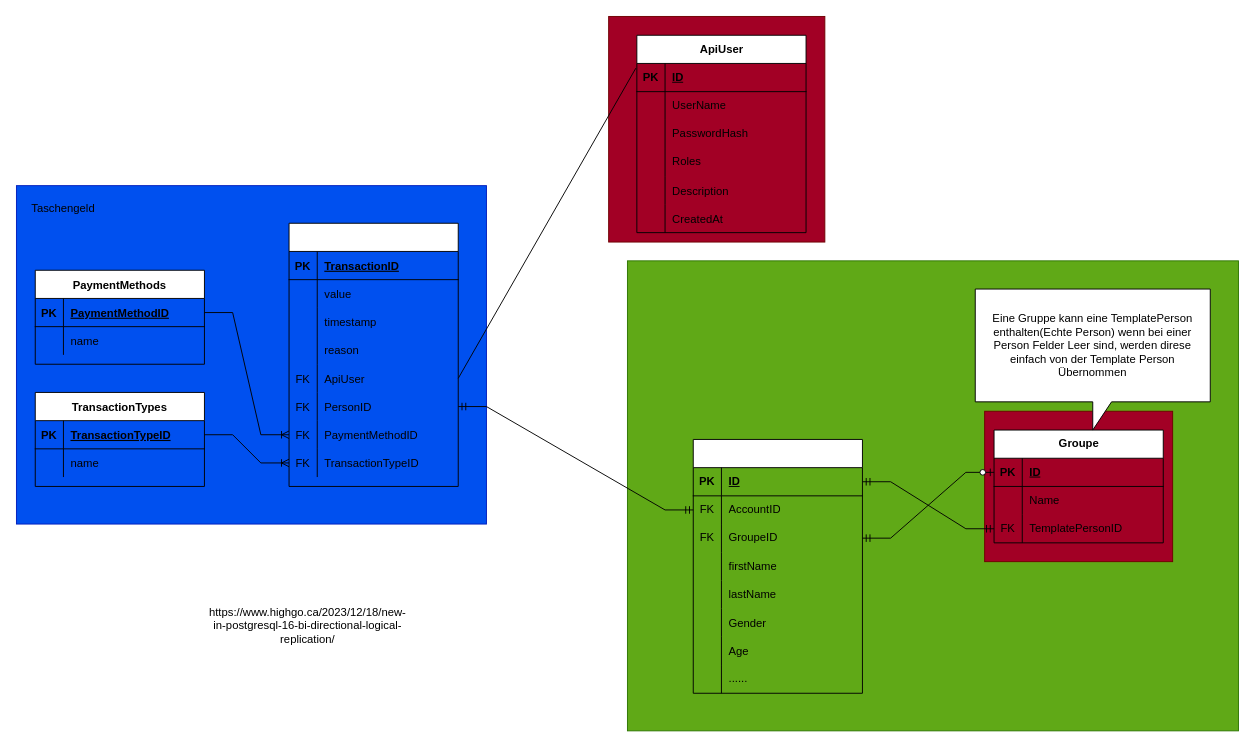
Image size: 1255x747. Some labels were removed from this diagram. Each missing label, with the box of its shape:
Person: (692, 439, 862, 693)
Transactions: (288, 222, 458, 486)
